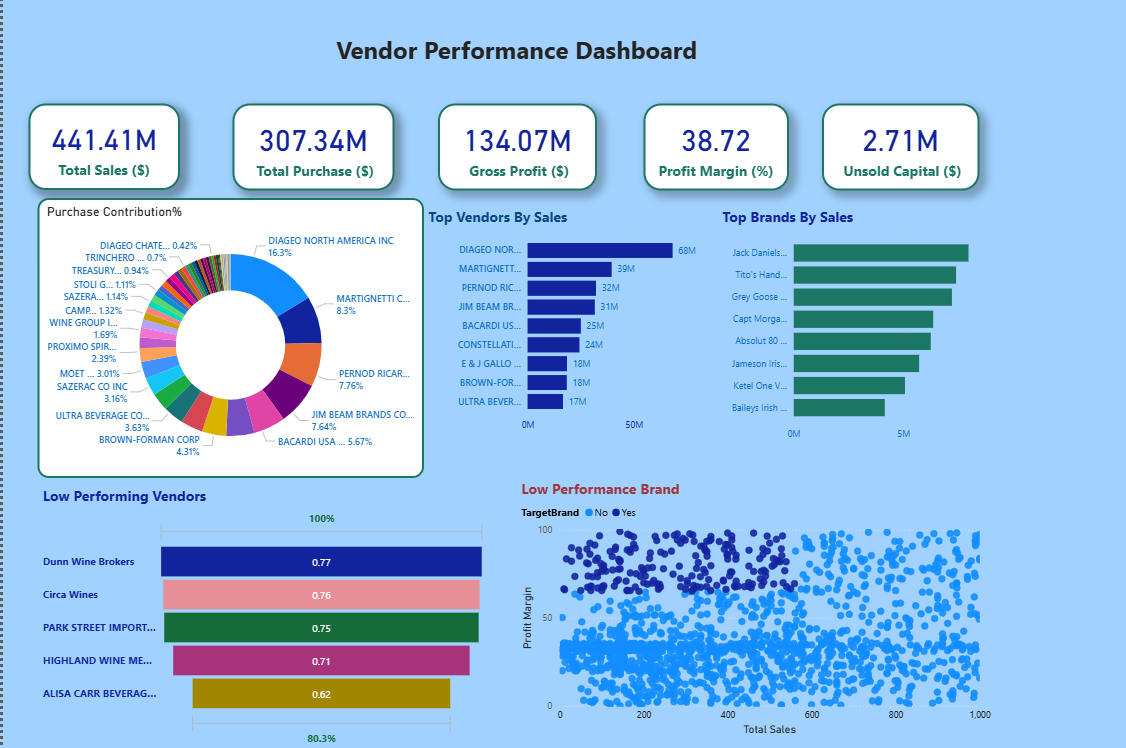

Layout of this report page (visuals, bound fields, positions):
{"tool":"powerbi","page":{"name":"Page 1","canvas":[1500,1000],"ordinal":0},"visuals":[{"type":"card","fields":{"Values":["Sum(vendors_data.TotalSalesDollars)"]},"box":[33.2,138.9,202.1,115.3],"z":0},{"type":"textbox","box":[420.3,37.8,529.8,73.7],"z":1000},{"type":"card","fields":{"Values":["Sum(vendors_data.TotalPurchaseDollars)"]},"box":[306,138,216,116],"z":2000},{"type":"card","fields":{"Values":["Sum(vendors_data.GrossProfit)"]},"box":[580,138,212,116],"z":3000},{"type":"card","fields":{"Values":["Avg(vendors_data.ProfitMargin)"]},"box":[854,138,194,116],"z":4000},{"type":"card","fields":{"Values":["Sum(vendors_data.UnsoldCapital)"]},"box":[1092,138,210,116],"z":5000},{"type":"donutChart","title":"Purchase Contribution% ","fields":{"Category":["PurchaseContribution.VendorName"],"Y":["Sum(PurchaseContribution.PurchaseContribution%)"]},"box":[46.7,264.4,515.6,373.3],"z":6000},{"type":"barChart","title":"Top Vendors By Sales","fields":{"Category":["vendors_data.VendorName"],"Y":["Sum(vendors_data.TotalSalesDollars)"]},"box":[562.2,275.6,392.2,326.7],"z":7000},{"type":"barChart","title":"Top Brands By Sales","fields":{"Y":["Sum(vendors_data.TotalSalesDollars)"],"Category":["vendors_data.Description"]},"box":[954,276,348,320],"z":8000},{"type":"funnel","title":"Low Performing Vendors","fields":{"Y":["Avg(LowTurnoverVendor.AvgStockTurnOver)"],"Category":["LowTurnoverVendor.VendorName"]},"box":[48,648,600,352],"z":9000},{"type":"scatterChart","title":"Low Performance Brand","fields":{"Category":["BrandPerformance.Description"],"X":["Sum(BrandPerformance.TotalSales)"],"Y":["Sum(BrandPerformance.AvgProfitMargin)"],"Series":["BrandPerformance.TargetBrand"]},"box":[686,638,636,346],"z":10000}]}

Visuals, with their boxes in screenshot pixels (x1, y1, x2, y2), scaled from the page's 1500x1000 canvas onto the 1126x748 screenshot:
card - Sum(vendors_data.TotalSalesDollars): left=25, top=104, right=177, bottom=190
textbox: left=316, top=28, right=713, bottom=83
card - Sum(vendors_data.TotalPurchaseDollars): left=230, top=103, right=392, bottom=190
card - Sum(vendors_data.GrossProfit): left=435, top=103, right=595, bottom=190
card - Avg(vendors_data.ProfitMargin): left=641, top=103, right=787, bottom=190
card - Sum(vendors_data.UnsoldCapital): left=820, top=103, right=977, bottom=190
"Purchase Contribution% " donutChart: left=35, top=198, right=422, bottom=477
"Top Vendors By Sales" barChart: left=422, top=206, right=716, bottom=451
"Top Brands By Sales" barChart: left=716, top=206, right=977, bottom=446
"Low Performing Vendors" funnel: left=36, top=485, right=486, bottom=747
"Low Performance Brand" scatterChart: left=515, top=477, right=992, bottom=736
